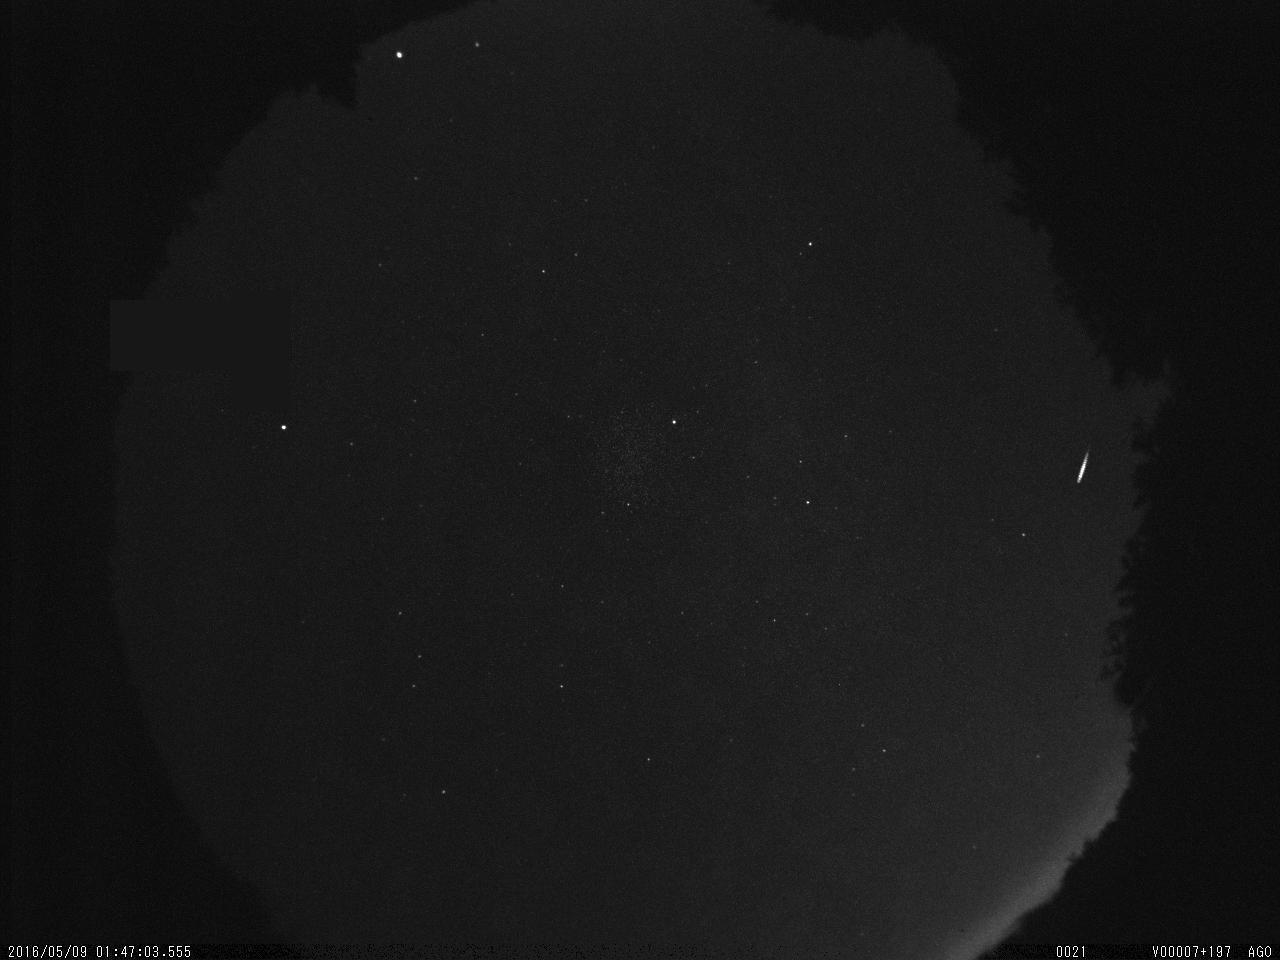Meteor: (1074, 447, 1091, 485)
